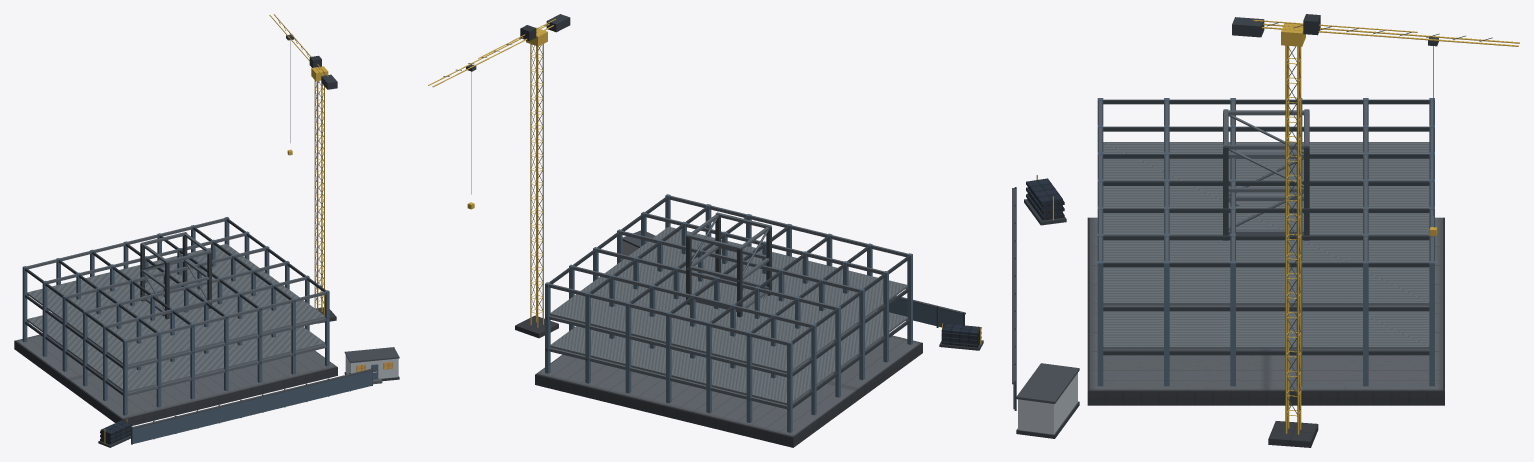
The model's file is trg-6-construction.glb.
3 renders of one model, left to right at view 1: azimuth 30°, elevation 25°; view 2: azimuth 150°, elevation 25°; view 3: azimuth 270°, elevation 25°, orthographic. The views are drawn at different scales.
Size of the model in its own units: 45.03 by 34.75 by 37.68.
Materials: 19 (11 with a texture image).
